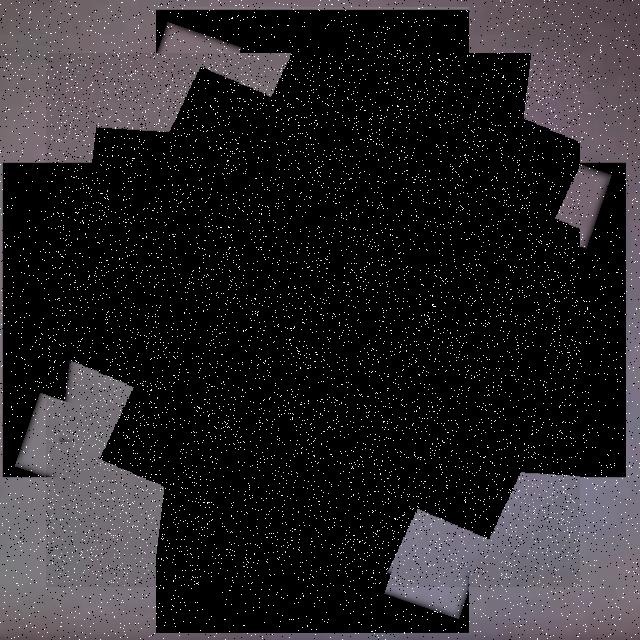lima puluh ribu rupiah: (46, 53, 580, 587)
